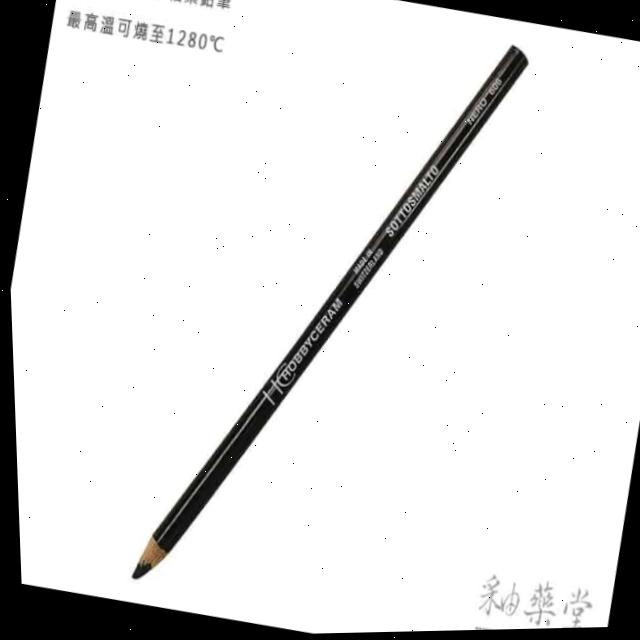pencil: (120, 38, 537, 591)
